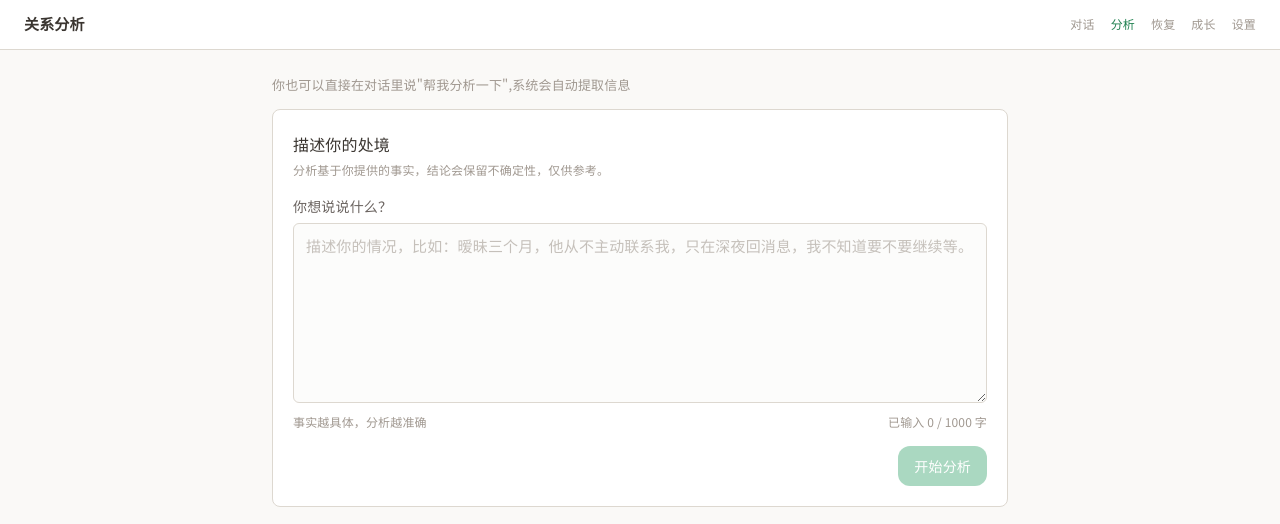
Test case: <AnalysisPage /> › 达到 10 字后按钮可用
In the text box named "情况描述": [640, 312] box [293,222,987,402], type "这是一段足够长的描述用于测试"
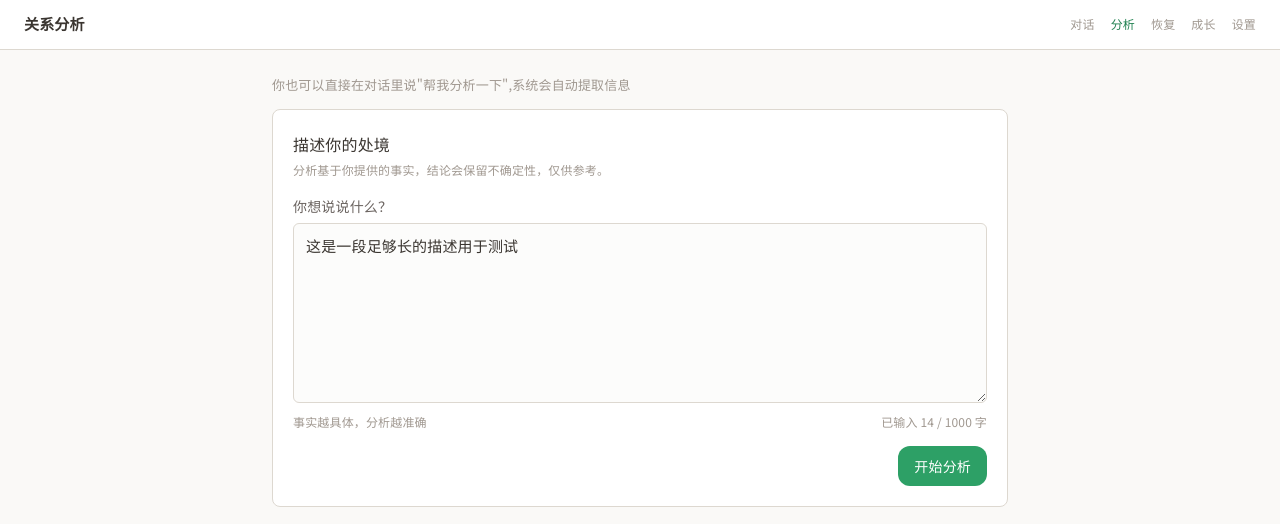
Expected: the button "开始分析" is enabled, [898,446,987,486]
